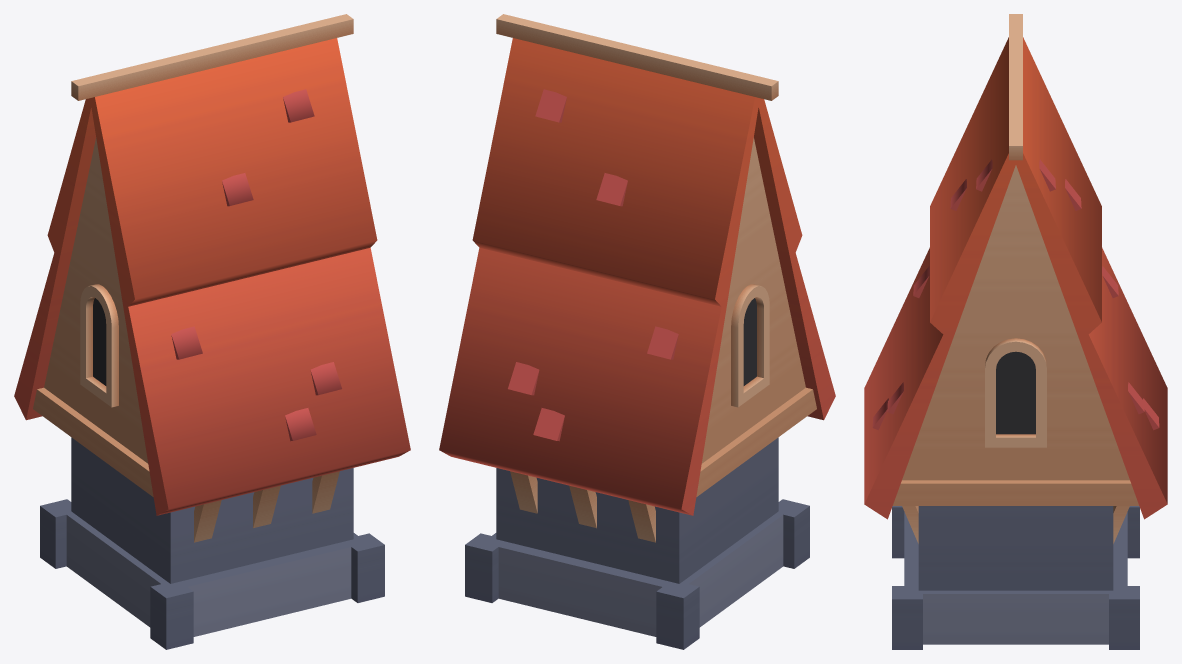
Rendered from tower-slant-roof.fbx.
3 views of the same model, side by side, from view 1: azimuth 30°, elevation 25°; view 2: azimuth 150°, elevation 25°; view 3: azimuth 270°, elevation 25° (orthographic).
Visible parts, largest first — view 1: tower-slant-roof; view 2: tower-slant-roof; view 3: tower-slant-roof.
Boxes of the visible parts, x1,y1,x2,y2 form: tower-slant-roof: (14, 14, 410, 649); tower-slant-roof: (439, 14, 835, 649); tower-slant-roof: (864, 14, 1167, 649).
Bounding box in the file's own units: 1.17 × 1.14 × 2.14.
